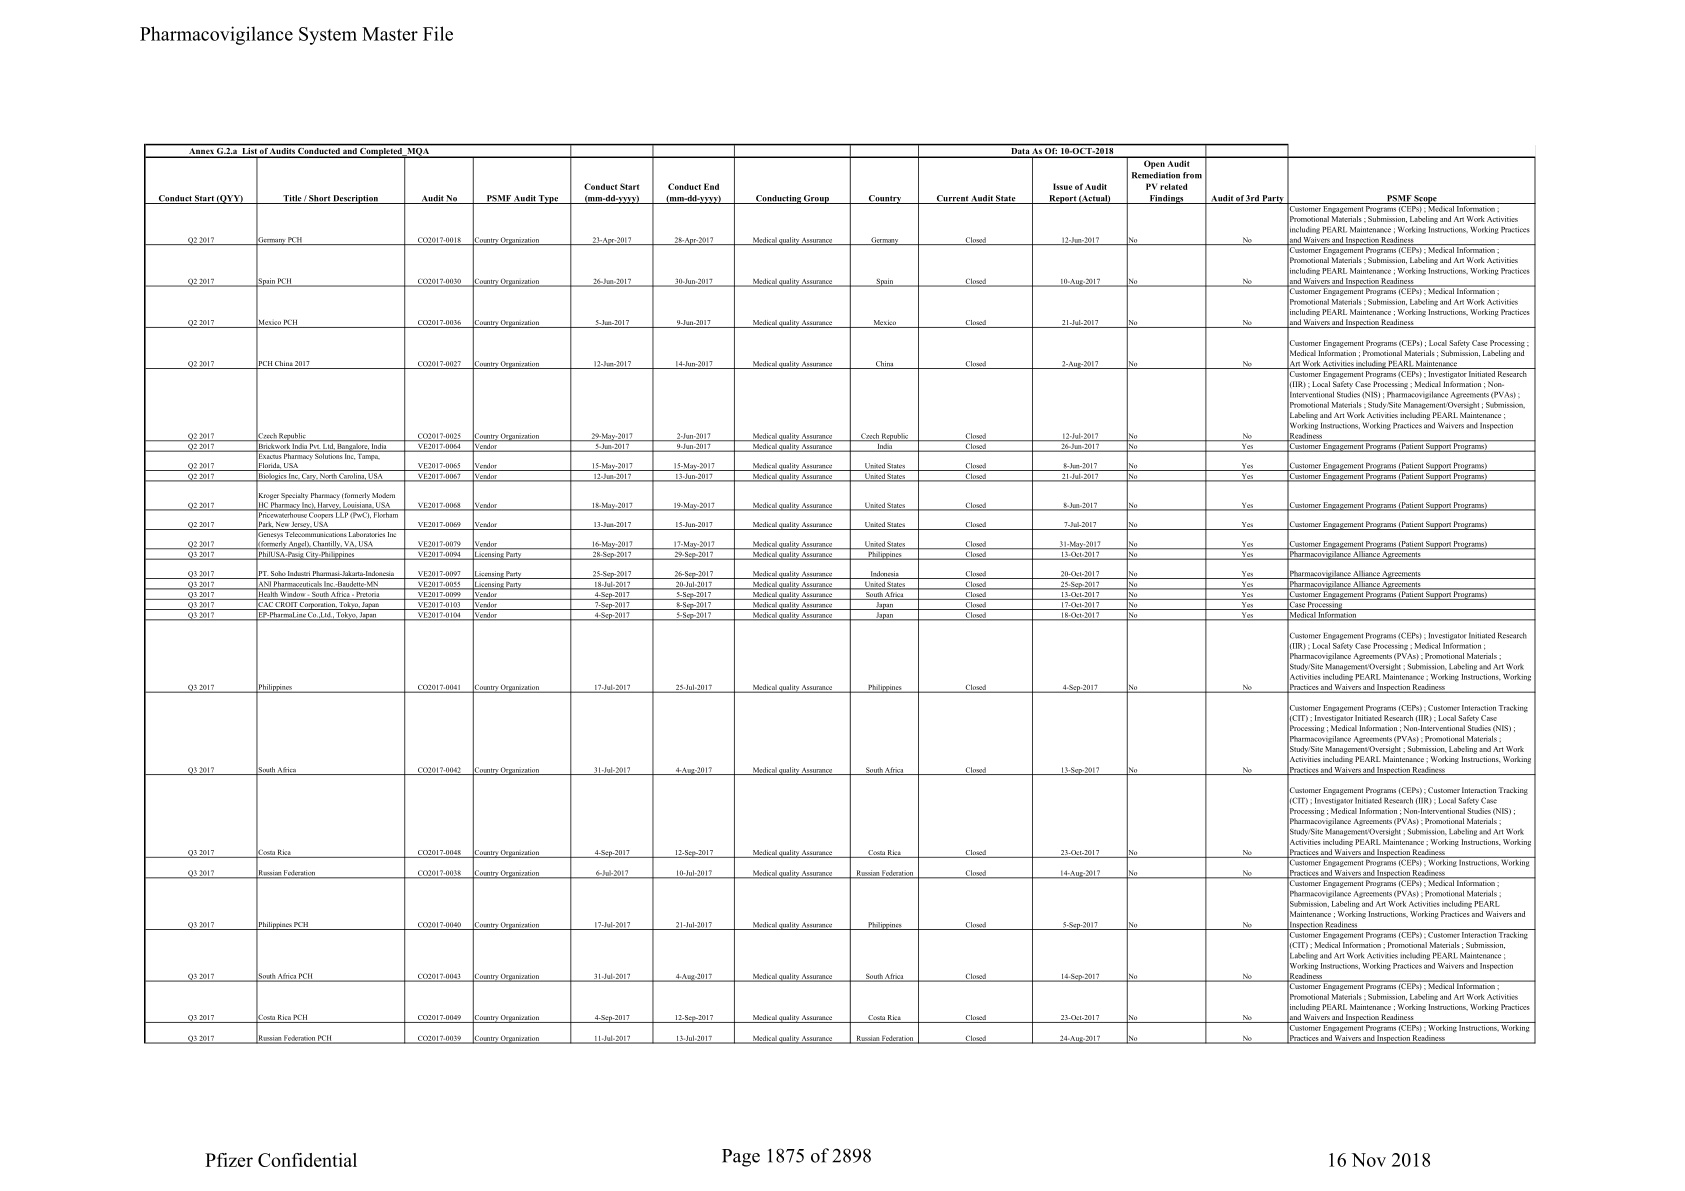merged_cells: (143, 143, 1537, 1044)
